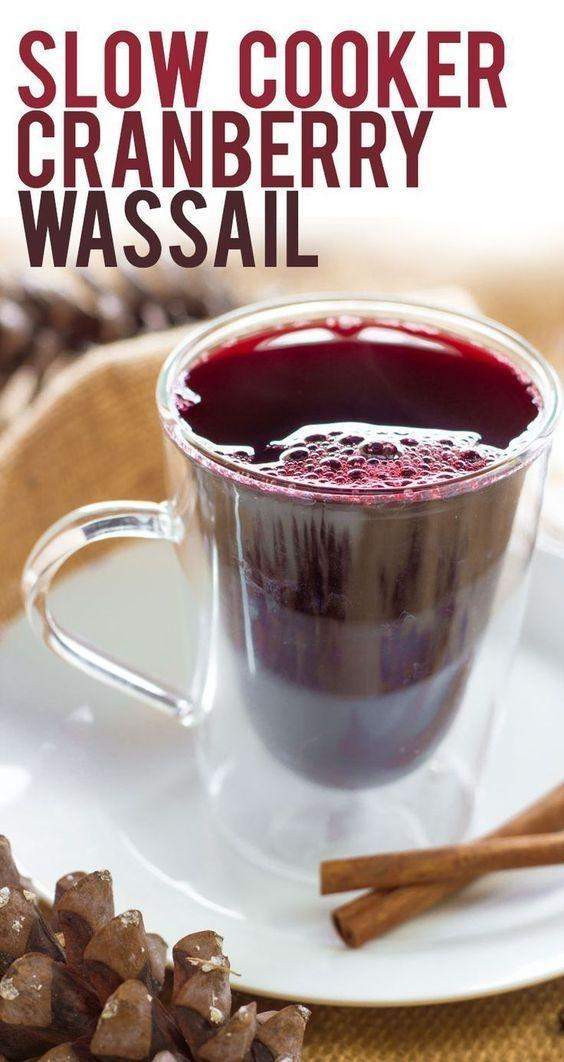glass-mug: (15, 287, 564, 860)
